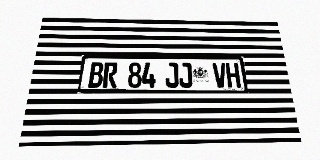4: (142, 62, 156, 88)
8: (128, 62, 142, 88)
B: (88, 62, 104, 88)
H: (225, 63, 241, 88)
J: (178, 63, 193, 88), (165, 63, 179, 88)
R: (103, 62, 118, 88)
V: (212, 63, 228, 88)
